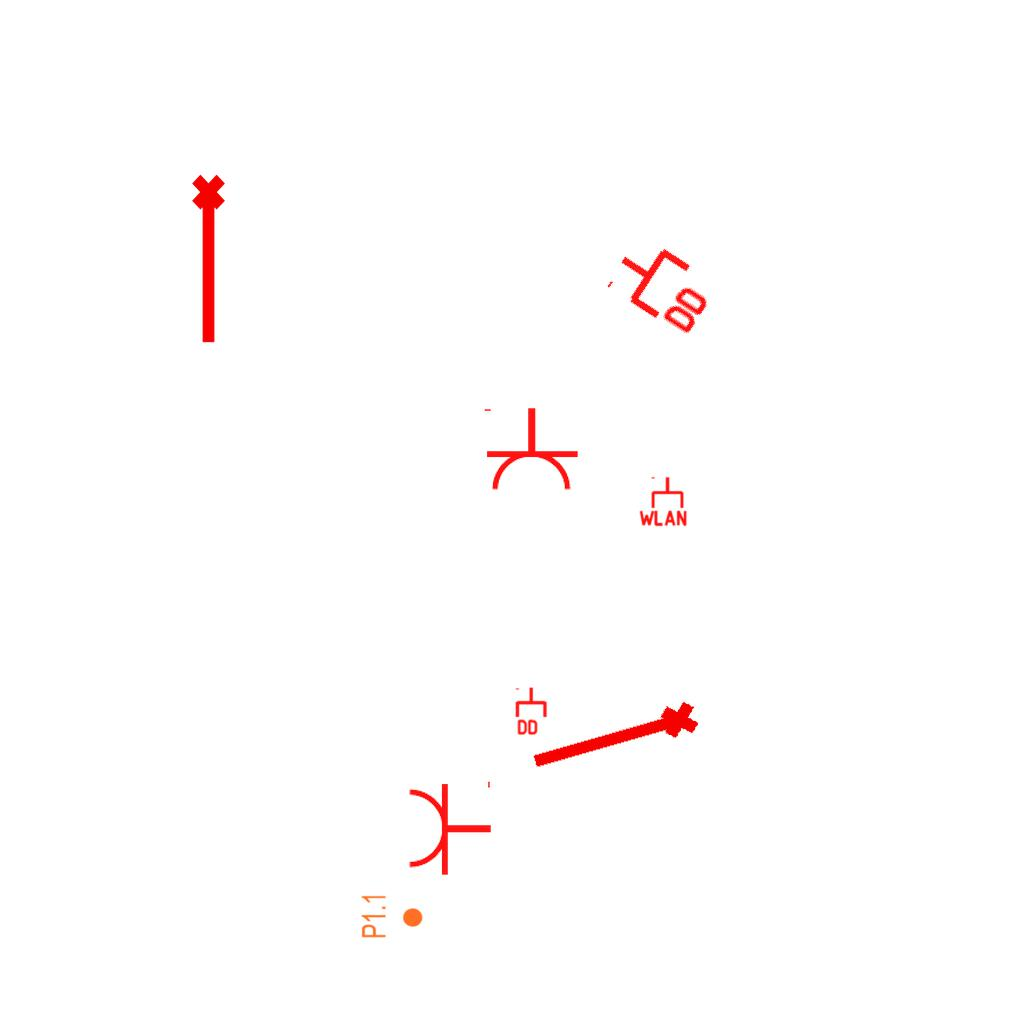ASR_Ansaugoeffnung: (524, 694, 706, 788), (188, 172, 234, 348)
Datenanschluss_zweifach: (602, 227, 727, 342), (515, 686, 549, 737)
Downlight_LED_Einbauleuchten_Flur: (360, 893, 424, 939)
Schukosteckdose_einfach: (406, 777, 493, 877), (480, 406, 580, 493)
WLAN: (637, 475, 689, 527)
